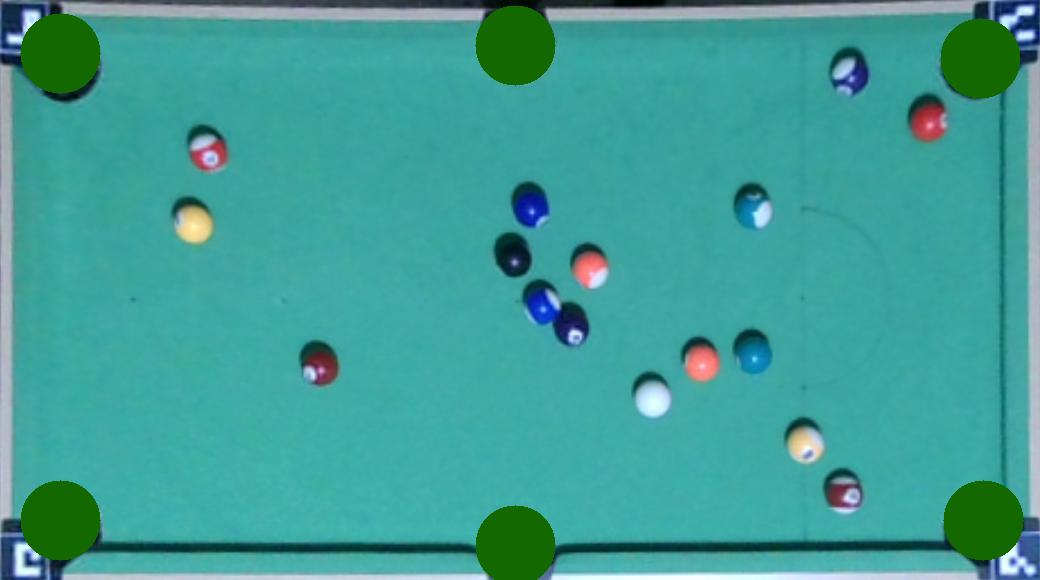Ball: (733, 184, 775, 231), (829, 50, 870, 97), (186, 129, 229, 173), (825, 474, 866, 518), (907, 100, 950, 141), (172, 204, 215, 244), (523, 283, 564, 324), (734, 335, 774, 375), (300, 345, 340, 385), (633, 381, 673, 420), (512, 187, 551, 227), (682, 344, 722, 382), (787, 427, 827, 464), (495, 239, 533, 277), (572, 252, 611, 289), (556, 306, 591, 346)
